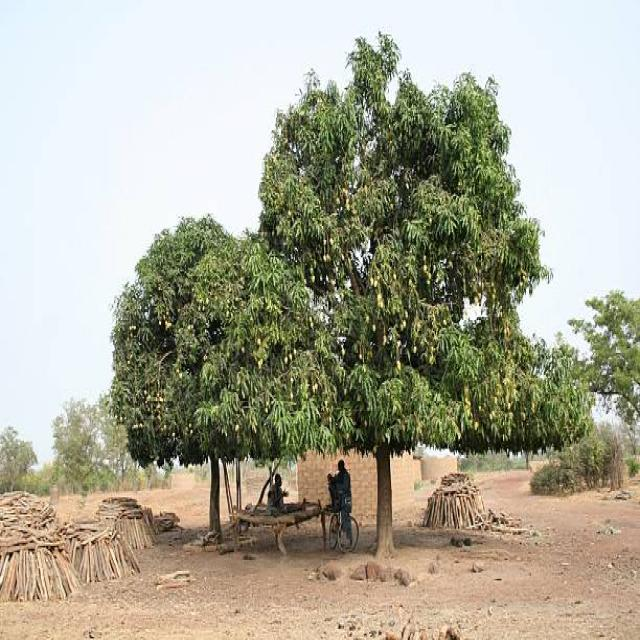Mango-Tree: (125, 95, 571, 463)
